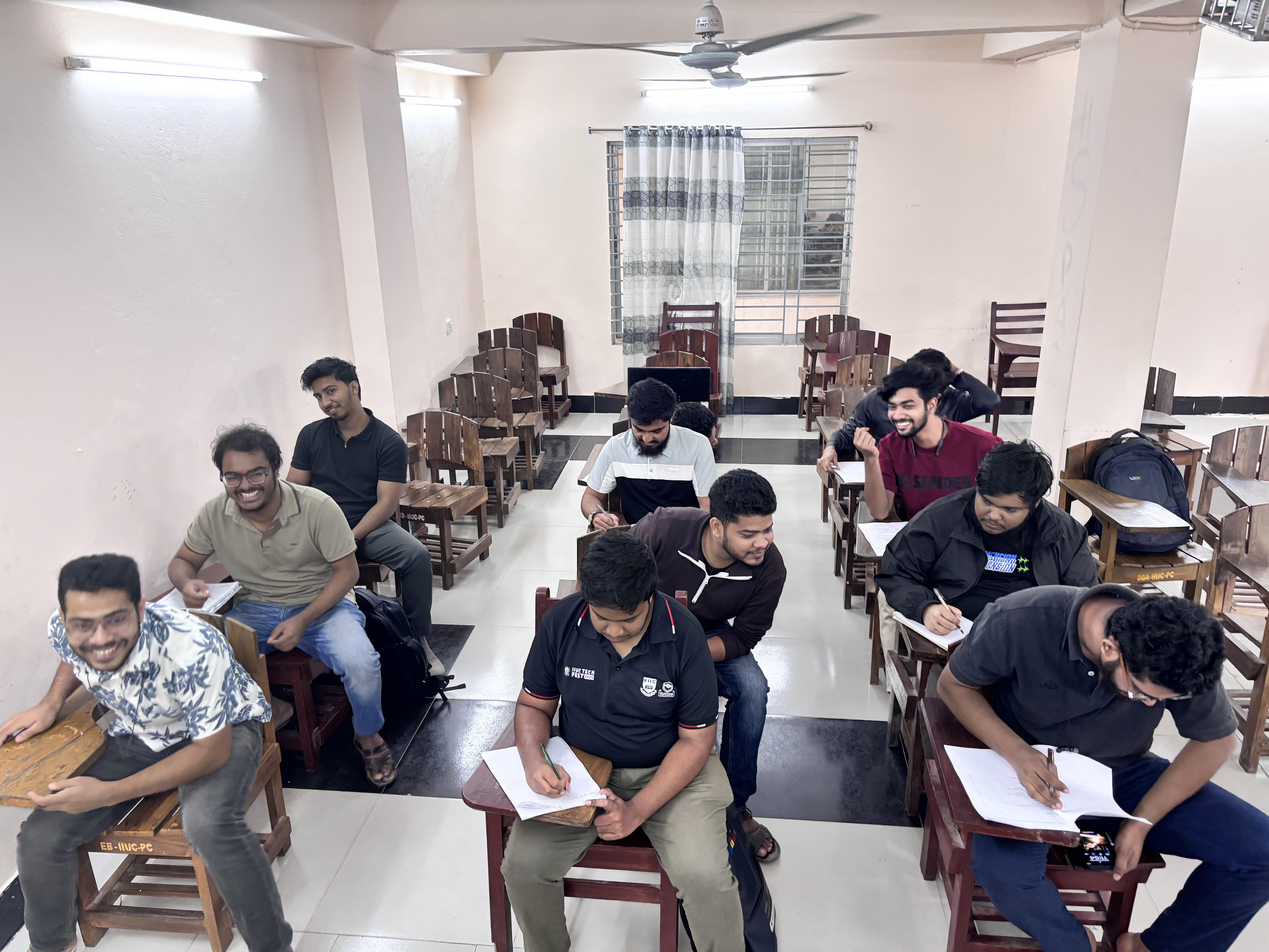copying: (631, 467, 824, 665), (911, 434, 1073, 656)
no_cheating: (493, 536, 721, 860), (573, 378, 714, 533)
side_talking: (815, 369, 977, 525)
suspicious_moving: (4, 543, 243, 885), (140, 432, 355, 656), (267, 340, 431, 501)
using_phone: (918, 587, 1233, 921)
